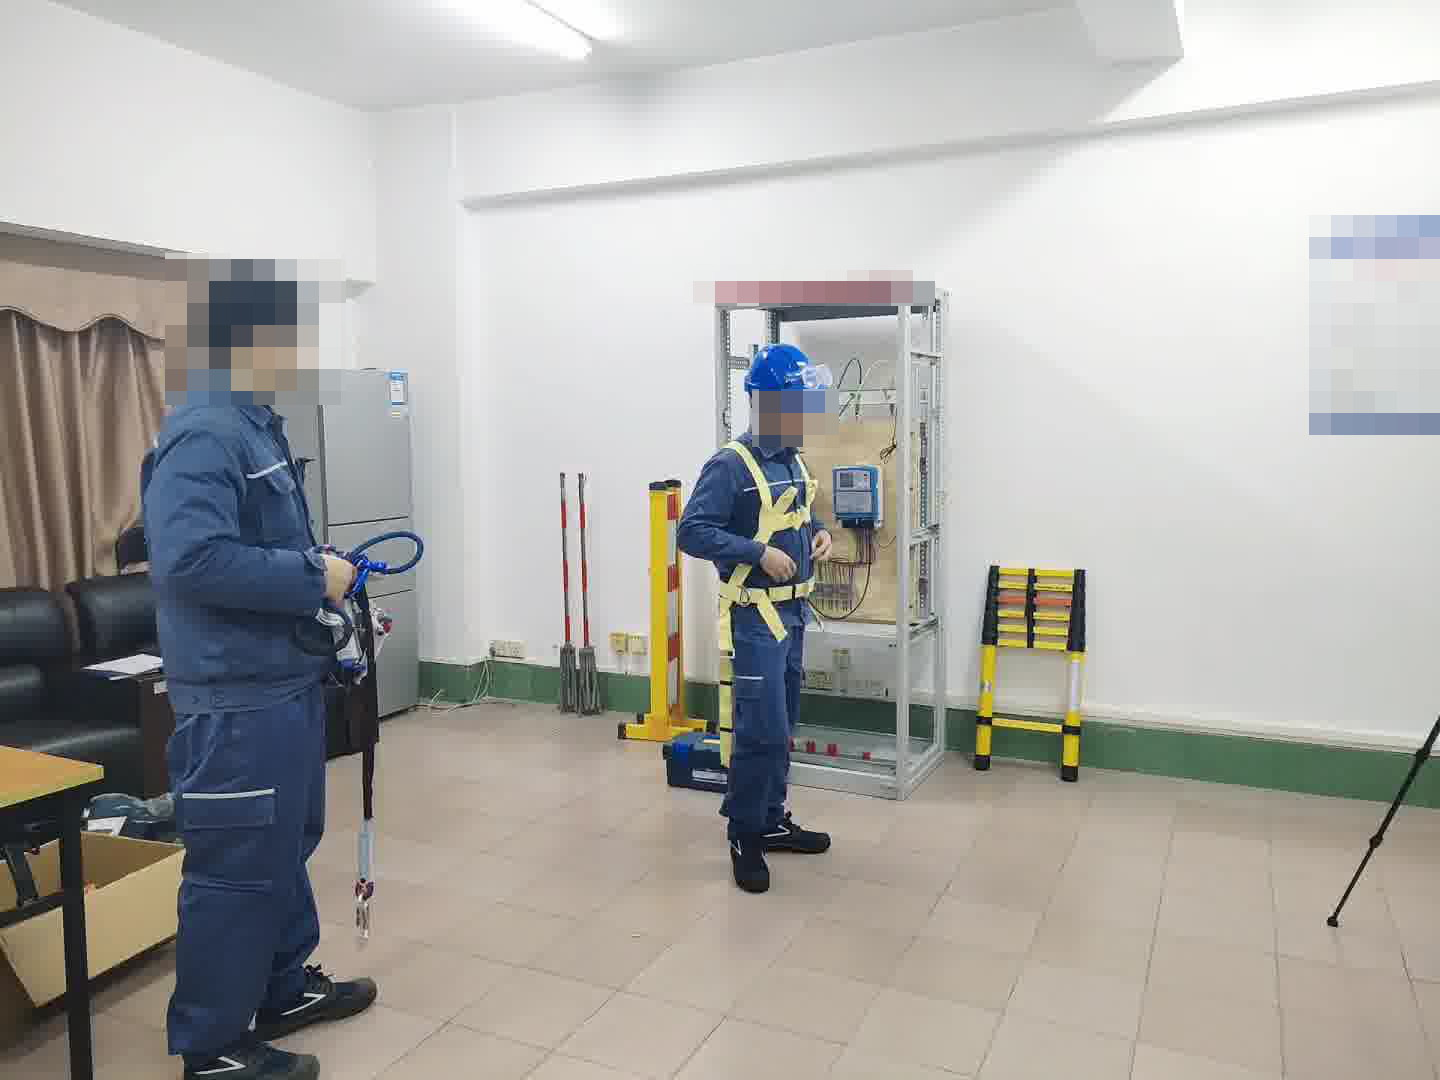downsuit: (164, 718, 333, 1065), (724, 638, 809, 831)
halt: (742, 343, 832, 440)
hand: (323, 552, 360, 606), (759, 545, 798, 585), (807, 527, 832, 564)
inear: (750, 393, 779, 433)
noear: (236, 310, 288, 383)
person: (124, 258, 392, 1079), (678, 341, 844, 883)
safebelt: (713, 425, 822, 659)
unhalt: (190, 265, 318, 398)
upsuit: (138, 386, 330, 697), (674, 427, 833, 600)
